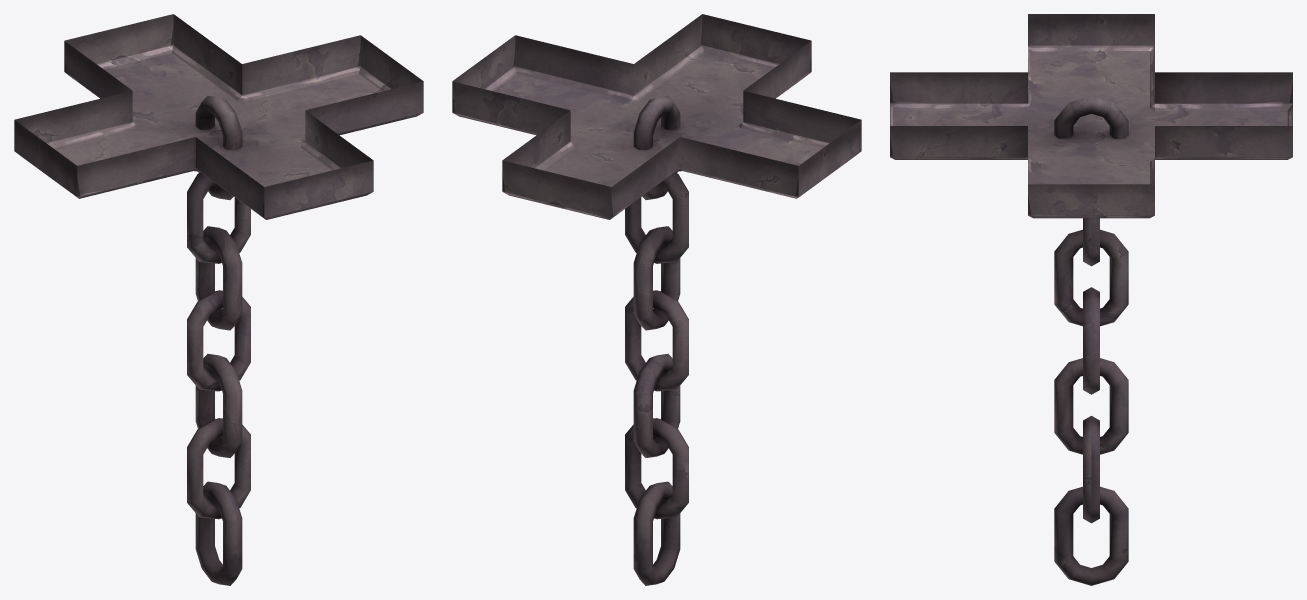
The model's file is Window01.FBX.
3 views of the same model, side by side, from view 1: azimuth 30°, elevation 25°; view 2: azimuth 150°, elevation 25°; view 3: azimuth 270°, elevation 25° (orthographic).
Visible parts, largest first — view 1: Poutre; view 2: Poutre; view 3: Poutre.
Boxes of the visible parts, bbox=[...] form: Poutre: bbox=[14, 14, 423, 585]; Poutre: bbox=[452, 14, 861, 585]; Poutre: bbox=[890, 14, 1292, 585].
Size of the model in its own units: 19.89 by 19.89 by 26.71.
Materials: 1 (1 with a texture image).
